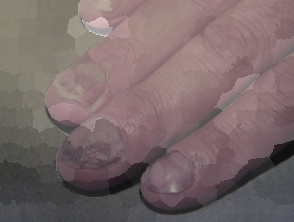Nail_psoriasis: (47, 45, 120, 117), (57, 115, 136, 179), (141, 147, 211, 200), (77, 0, 129, 19)
